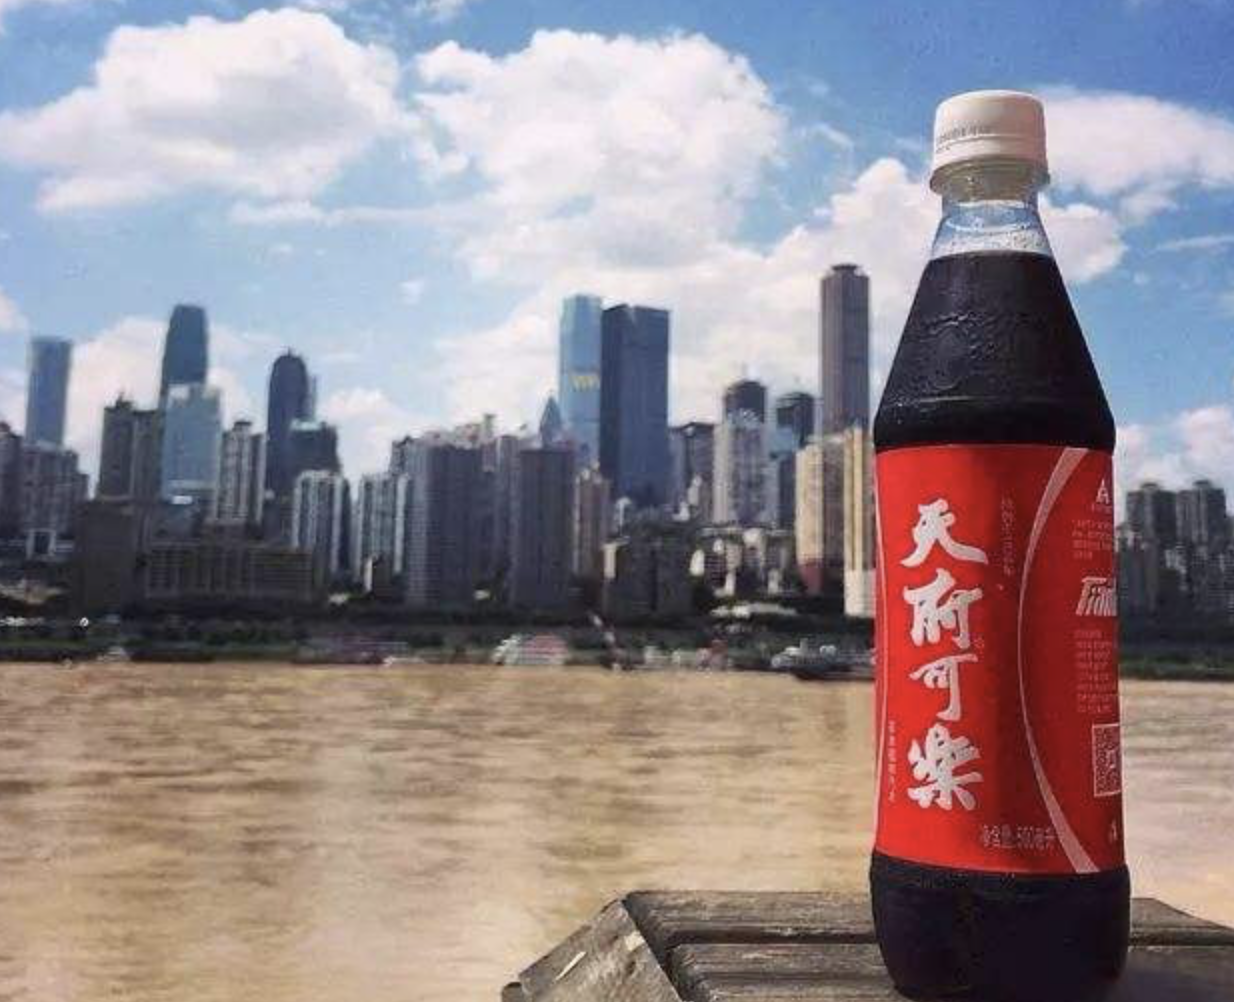天府可乐: (853, 89, 1132, 988)
